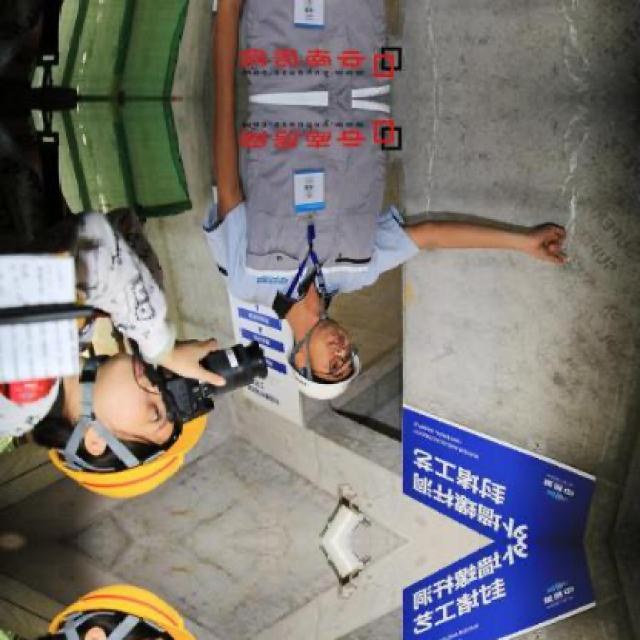con casco: (37, 329, 211, 506), (266, 276, 386, 414)
